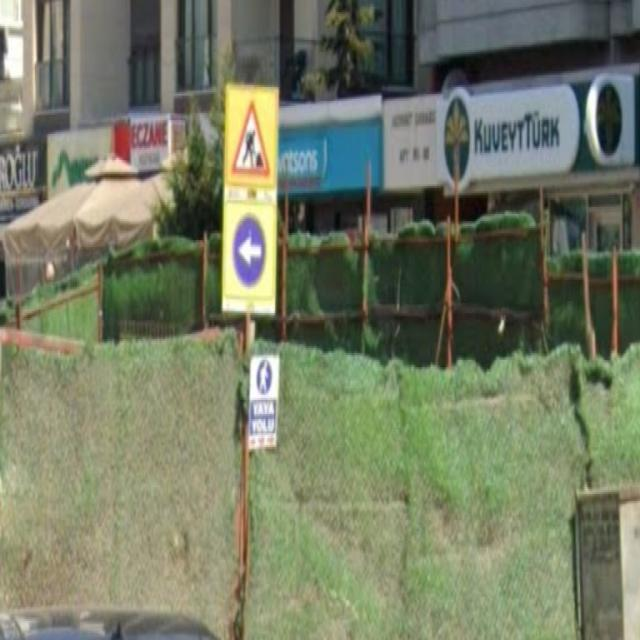Turn Left: (228, 218, 273, 298)
